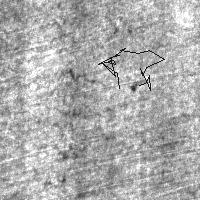crazing: (51, 57, 125, 135), (98, 48, 164, 90)
